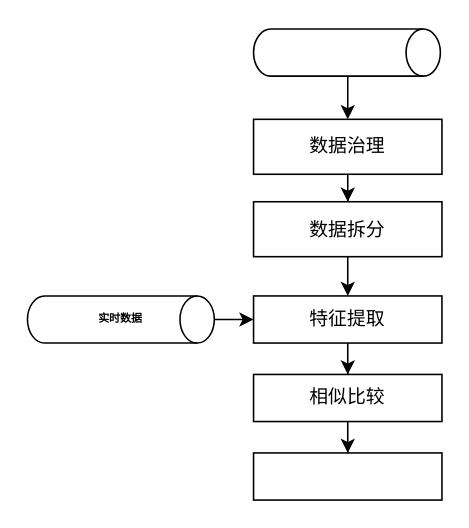
This 469x528 diagram has some shape labels left out. Here are the shapes that lost their labels. From the top down, the centre of each, then its label:
At pixel 346 51: "历史数据获取".
At pixel 347 475: "趋势预测".
